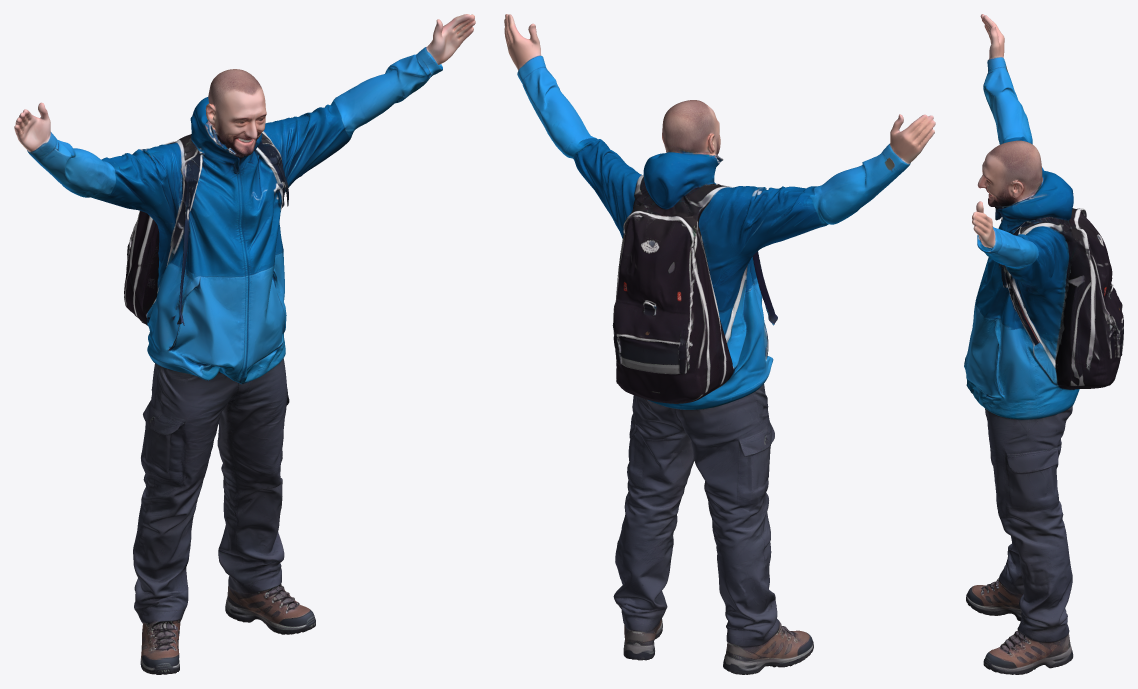
3 renders of one model, left to right at view 1: azimuth 30°, elevation 25°; view 2: azimuth 150°, elevation 25°; view 3: azimuth 270°, elevation 25°, orthographic. The views are drawn at different scales.
Size of the model in its own units: 1.51 by 1.9 by 0.5157.
Materials: 1 (1 with a texture image).
